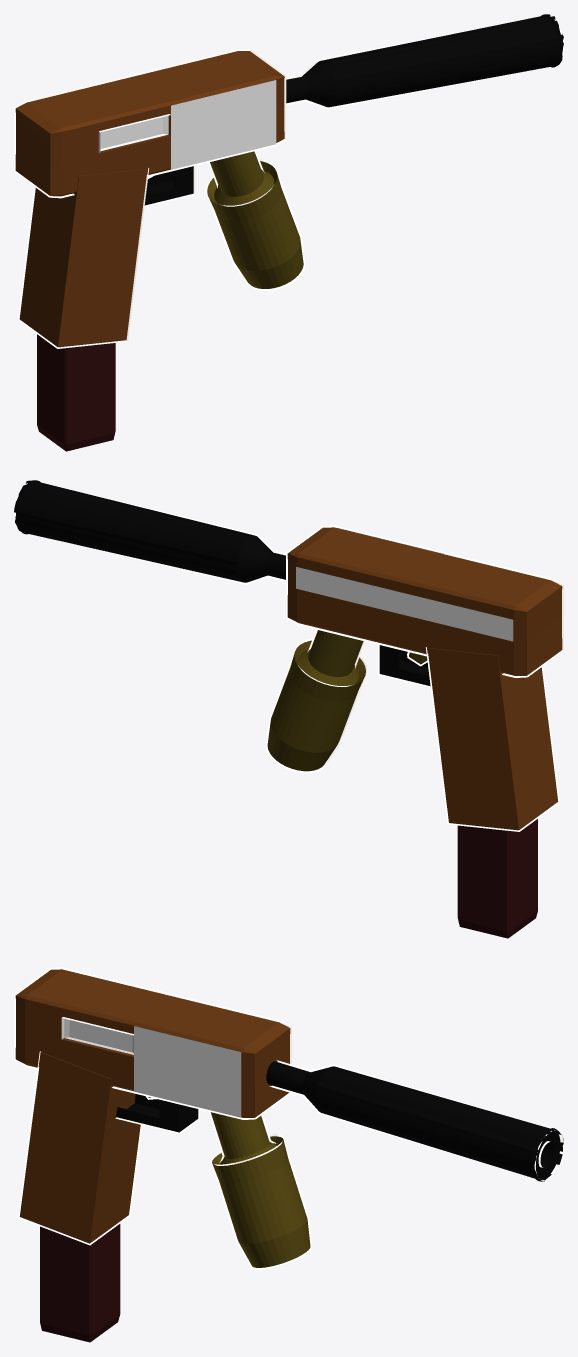
The model's file is tmp_gun.glb.
3 views of the same model, one above another, from view 1: azimuth 30°, elevation 25°; view 2: azimuth 150°, elevation 25°; view 3: azimuth 330°, elevation 25° (orthographic). The views are drawn at different scales.
Visible parts, largest first — view 1: gun, magzine; view 2: gun, magzine; view 3: gun, magzine.
Boxes of the visible parts, x1,y1,x2,y2 form: gun: (14,14,563,348); magzine: (37,334,115,451); gun: (14,480,563,831); magzine: (457,819,537,938); gun: (14,967,563,1269); magzine: (40,1224,120,1342).
Bounding box in the file's own units: 15.07 × 9.25 × 2.03.
